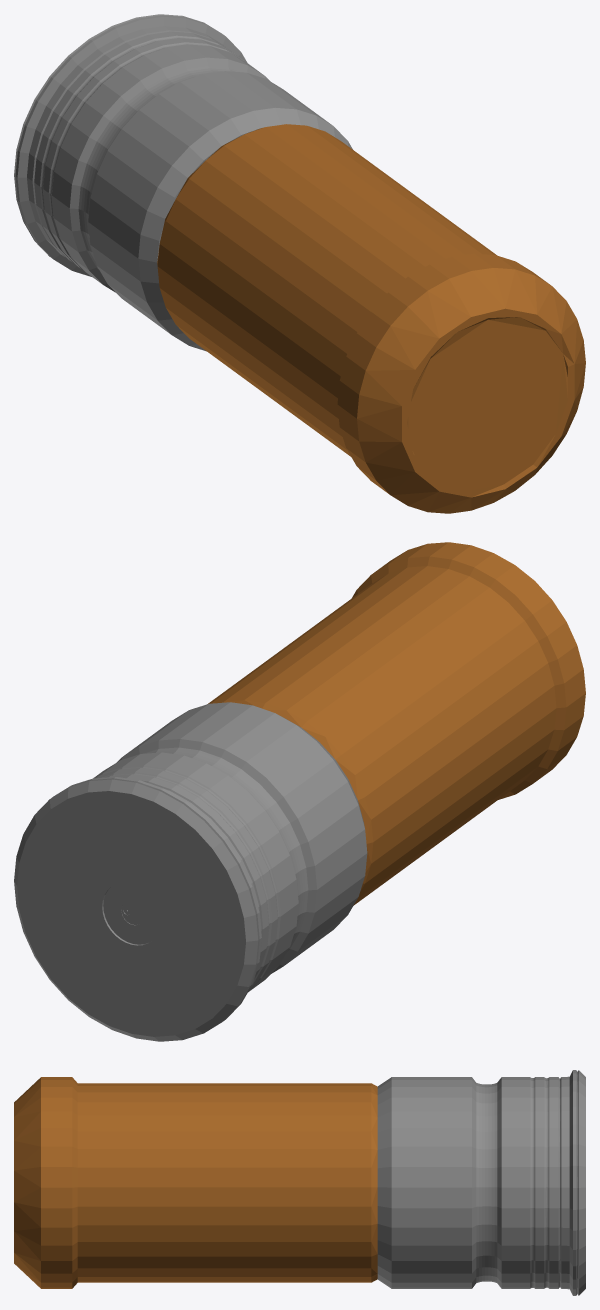
The model's file is ip_chg125.glb.
The picture shows the model from 3 angles, top to bottom: view 1: azimuth 30°, elevation 25°; view 2: azimuth 150°, elevation 25°; view 3: azimuth 270°, elevation 25°; orthographic projection. The views are drawn at different scales.
Parts seen in each view (by area): view 1: O_ip_chg125__Ca62, O_ip_chg125__C888; view 2: O_ip_chg125__C888, O_ip_chg125__Ca62; view 3: O_ip_chg125__Ca62, O_ip_chg125__C888.
Boxes of the visible parts, left/top/right/bottom form: O_ip_chg125__Ca62: left=157, top=124, right=585, bottom=513; O_ip_chg125__C888: left=14, top=14, right=352, bottom=351; O_ip_chg125__C888: left=14, top=702, right=367, bottom=1041; O_ip_chg125__Ca62: left=207, top=542, right=585, bottom=905; O_ip_chg125__Ca62: left=14, top=1077, right=377, bottom=1288; O_ip_chg125__C888: left=377, top=1070, right=585, bottom=1295.
Bounding box in the file's own units: 0.4637 × 0.4637 × 1.17.
